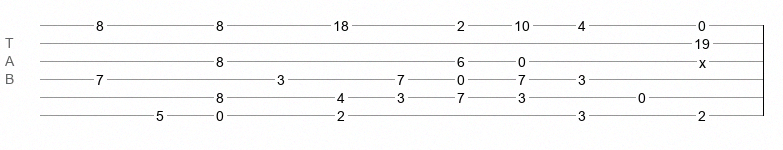0: (216, 108, 224, 118), (457, 72, 465, 82), (518, 54, 526, 64), (638, 90, 646, 100), (698, 18, 706, 28)
10: (514, 18, 530, 28)
18: (333, 18, 349, 28)
19: (694, 36, 710, 46)
2: (337, 108, 345, 118), (457, 18, 465, 28), (698, 108, 706, 118)
3: (277, 72, 285, 82), (397, 90, 405, 100), (518, 90, 526, 100), (578, 108, 586, 118), (578, 72, 586, 82)
4: (337, 90, 345, 100), (578, 18, 586, 28)
5: (156, 108, 164, 118)
6: (457, 54, 465, 64)
7: (96, 72, 104, 82), (397, 72, 405, 82), (457, 90, 465, 100), (518, 72, 526, 82)
8: (96, 18, 104, 28), (216, 54, 224, 64), (216, 90, 224, 100), (216, 18, 224, 28)
x: (699, 55, 706, 63)
